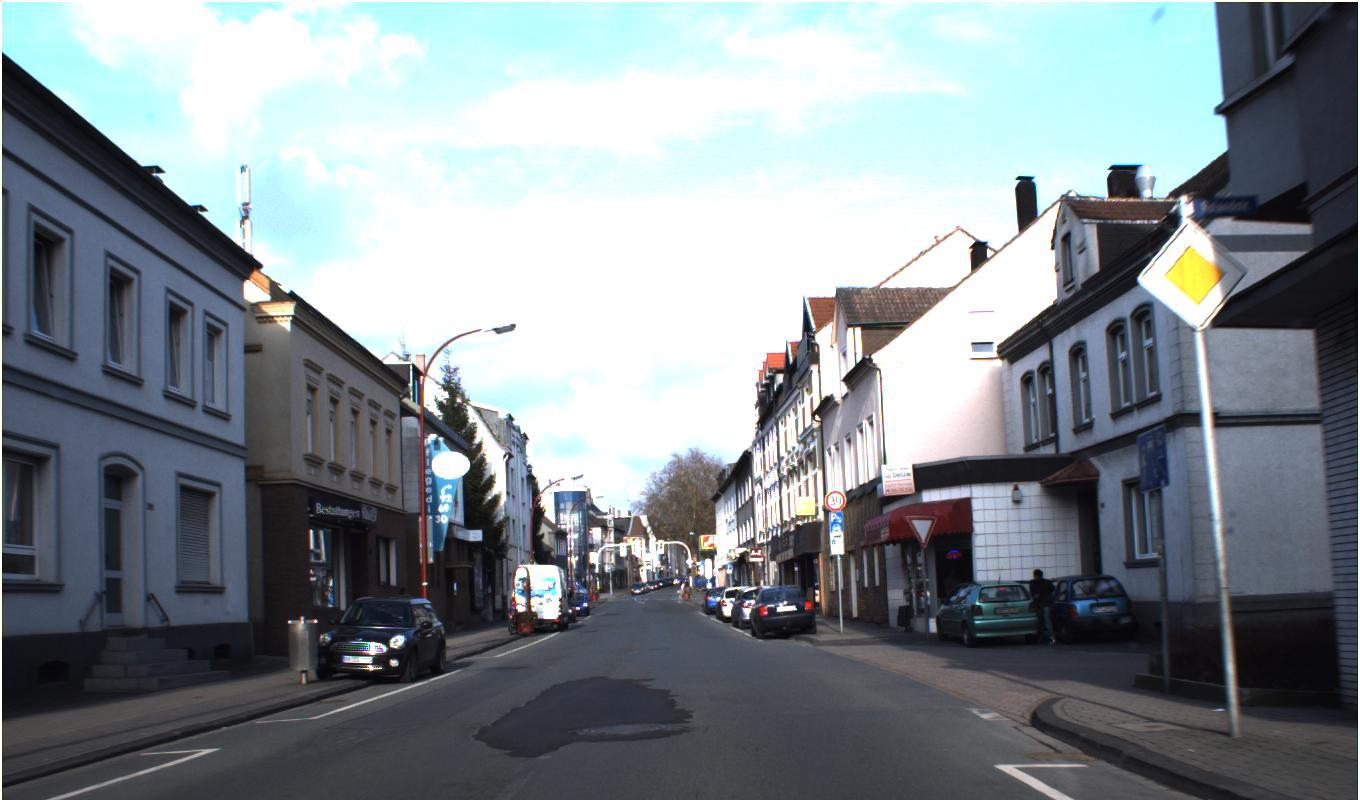12: (1135, 218, 1248, 331)
13: (904, 514, 938, 549)
speed limit 30 prohibitory: (823, 489, 847, 513)
